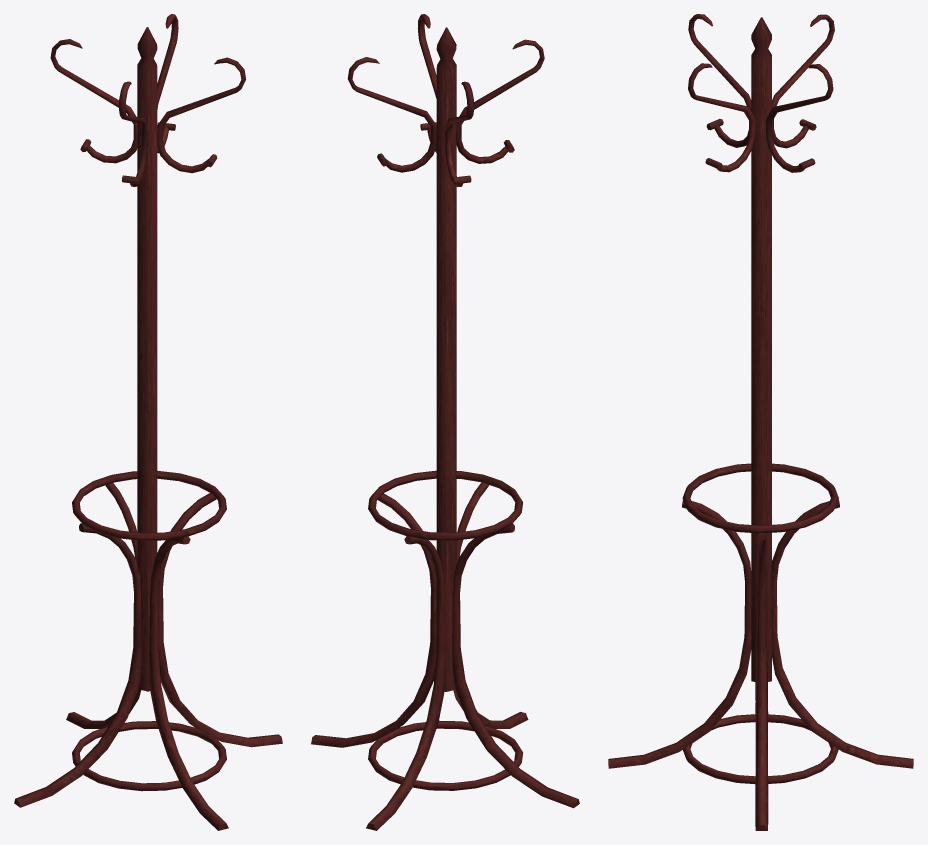
The model's file is coat_hanger.glb.
3 views of the same model, side by side, from view 1: azimuth 30°, elevation 25°; view 2: azimuth 150°, elevation 25°; view 3: azimuth 270°, elevation 25° (orthographic).
Visible parts, largest first — view 1: CoatHanger_CoatHanger_0; view 2: CoatHanger_CoatHanger_0; view 3: CoatHanger_CoatHanger_0.
Boxes of the visible parts, x1,y1,x2,y2 form: CoatHanger_CoatHanger_0: [14, 14, 282, 830]; CoatHanger_CoatHanger_0: [311, 14, 579, 830]; CoatHanger_CoatHanger_0: [608, 14, 913, 830].
Size of the model in its own units: 0.6972 by 1.89 by 0.6983.
Materials: 1 (1 with a texture image).
